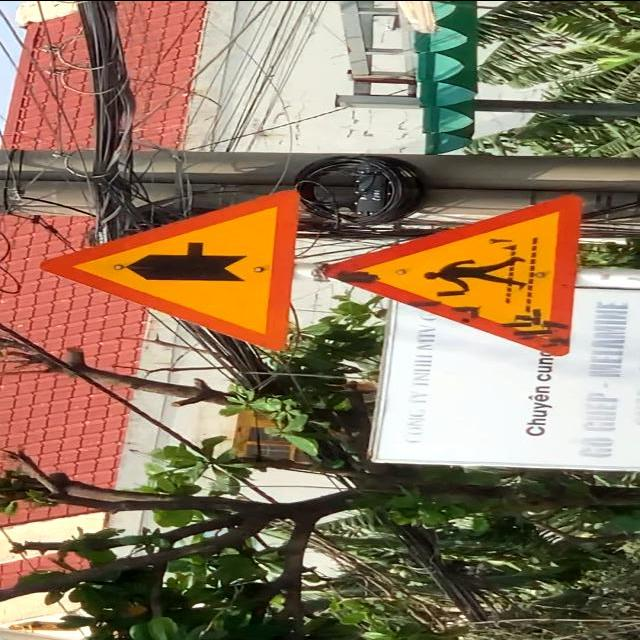W-207b: (41, 189, 308, 351)
W-224: (316, 192, 586, 356)
